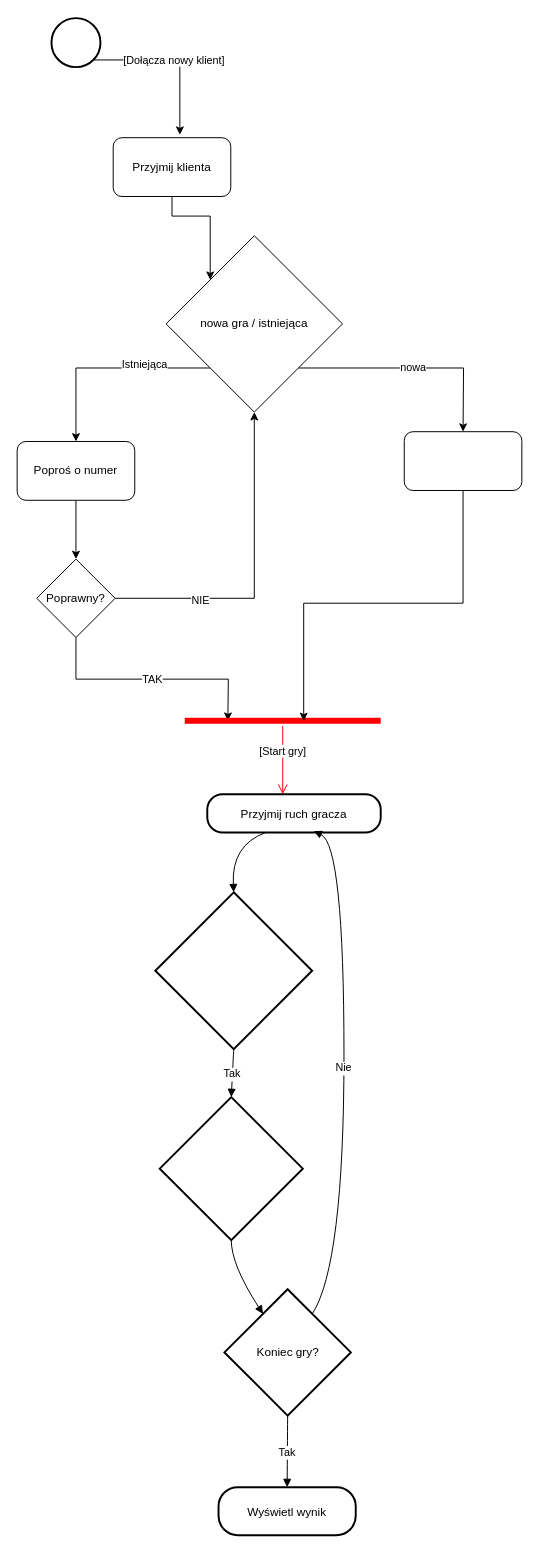
The diagram is 539 pixels wide and 1552 high, and some of its shapes have lost their labels. Here are the shapes that lost their labels. From the top down, the centre of each, then its label:
At [75,42]: "Start".
At [462,460]: "Stwórz grę, zwróć numer".
At [233,970]: "Poprawny ruch?".
At [230,1168]: "Wykonaj ruch".
